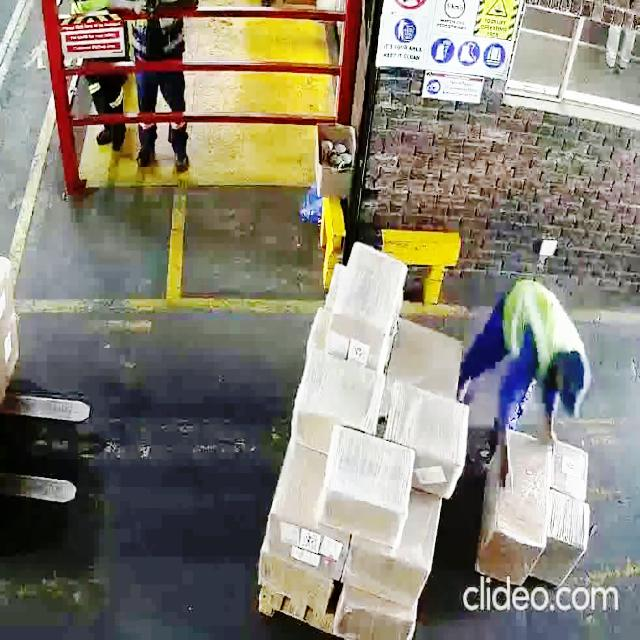Box: (324, 431, 401, 538), (338, 241, 397, 347), (495, 432, 541, 564), (266, 501, 345, 576), (396, 386, 469, 463), (298, 354, 369, 429), (349, 542, 426, 596), (339, 590, 416, 640), (260, 552, 326, 608), (545, 498, 586, 583), (546, 436, 590, 497)
